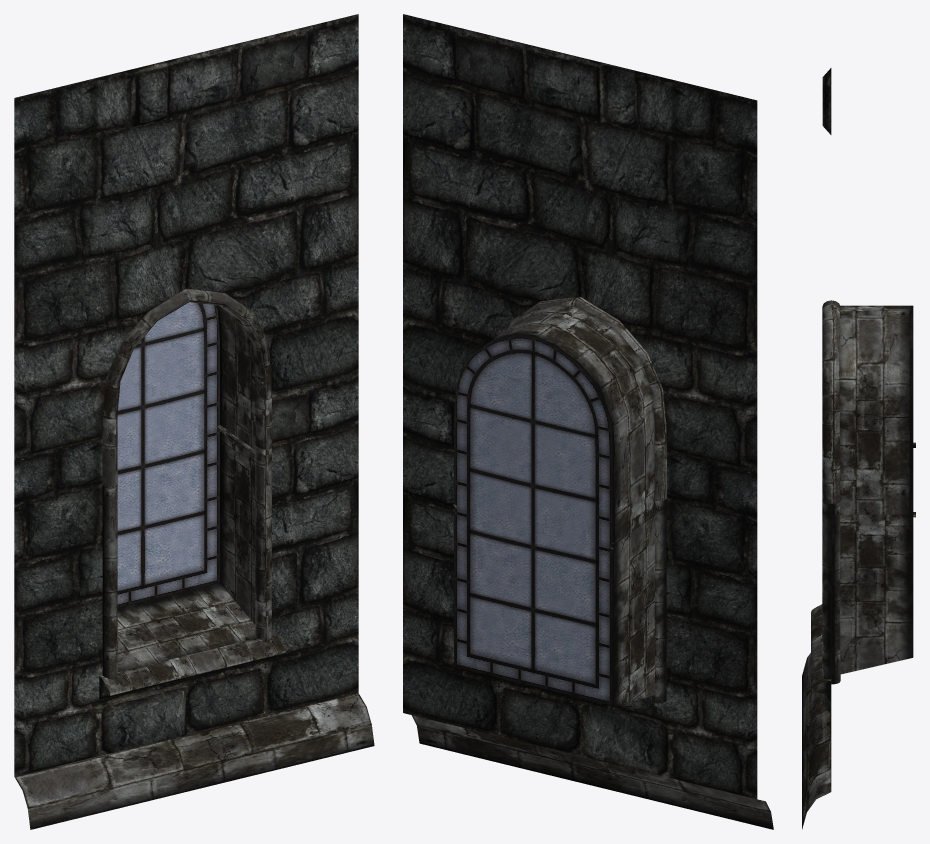
Rendered from square_brick_window_large_blue.dae.
3 renders of one model, left to right at view 1: azimuth 30°, elevation 25°; view 2: azimuth 150°, elevation 25°; view 3: azimuth 270°, elevation 25°, orthographic. The views are drawn at different scales.
Visible parts, largest first — view 1: polySurface177, polySurface174, polySurface175, polySurface178, polySurface176; view 2: polySurface177, polySurface174, polySurface178, polySurface175, polySurface176; view 3: polySurface175, polySurface176, polySurface177.
Boxes of the visible parts, <box> form: polySurface177: <box>14,14,358,457</box>; polySurface174: <box>14,374,358,776</box>; polySurface175: <box>99,288,285,699</box>; polySurface178: <box>117,302,219,607</box>; polySurface176: <box>14,693,374,829</box>; polySurface177: <box>403,14,757,470</box>; polySurface174: <box>403,385,757,799</box>; polySurface178: <box>454,336,613,705</box>; polySurface175: <box>453,296,666,705</box>; polySurface176: <box>411,715,773,829</box>; polySurface175: <box>811,300,915,701</box>; polySurface176: <box>802,653,831,829</box>; polySurface177: <box>822,68,831,134</box>.
Bounding box in the file's own units: 4 × 8 × 1.25.
